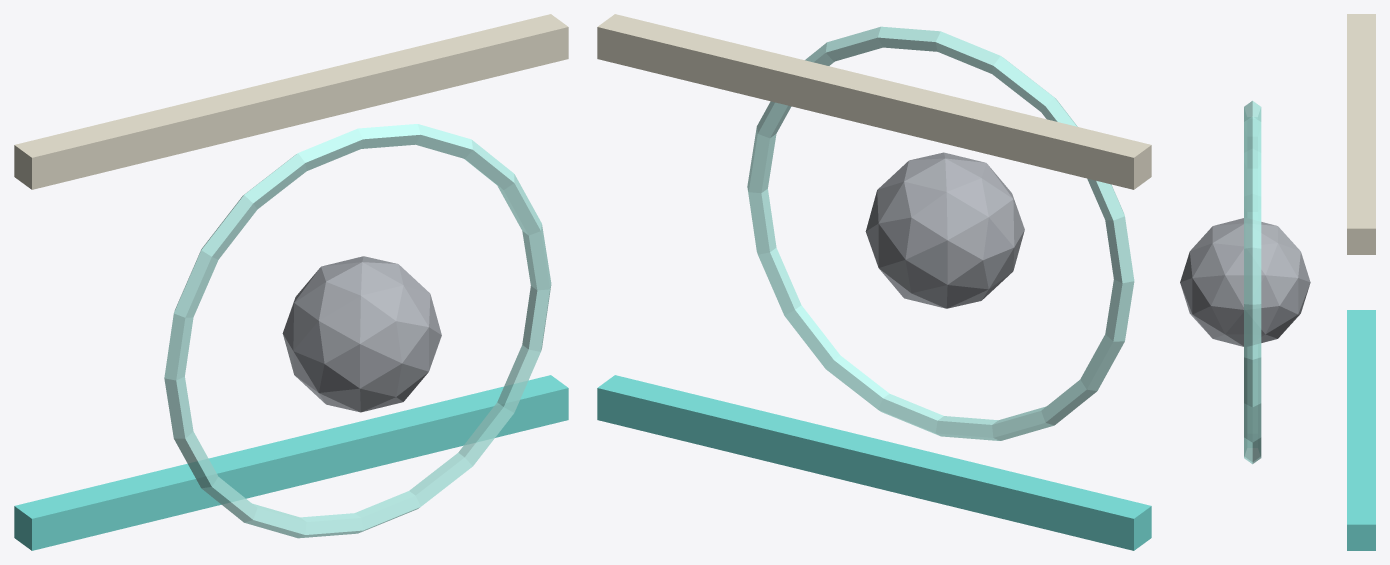
The model's file is 03_material_polish_overlay_3.glb.
3 views of the same model, side by side, from view 1: azimuth 30°, elevation 25°; view 2: azimuth 150°, elevation 25°; view 3: azimuth 270°, elevation 25° (orthographic). The views are drawn at different scales.
Parts seen in each view (by area): view 1: polished_trim_bar_b, polished_trim_bar_a, material_preview_ring, reflective_sample_core; view 2: polished_trim_bar_a, polished_trim_bar_b, material_preview_ring, reflective_sample_core; view 3: reflective_sample_core, polished_trim_bar_a, polished_trim_bar_b, material_preview_ring.
Part boxes in pixels (bbox=[...]): polished_trim_bar_b: bbox=[14, 14, 568, 189]; polished_trim_bar_a: bbox=[14, 375, 568, 550]; material_preview_ring: bbox=[164, 124, 551, 538]; reflective_sample_core: bbox=[282, 256, 441, 412]; polished_trim_bar_a: bbox=[597, 375, 1151, 550]; polished_trim_bar_b: bbox=[597, 14, 1151, 189]; material_preview_ring: bbox=[747, 26, 1134, 440]; reflective_sample_core: bbox=[865, 152, 1024, 308]; reflective_sample_core: bbox=[1180, 218, 1310, 346]; polished_trim_bar_a: bbox=[1347, 310, 1375, 550]; polished_trim_bar_b: bbox=[1347, 14, 1375, 254]; material_preview_ring: bbox=[1244, 100, 1261, 464].
Size of the model in its own units: 1.4 by 1.01 by 0.54.
